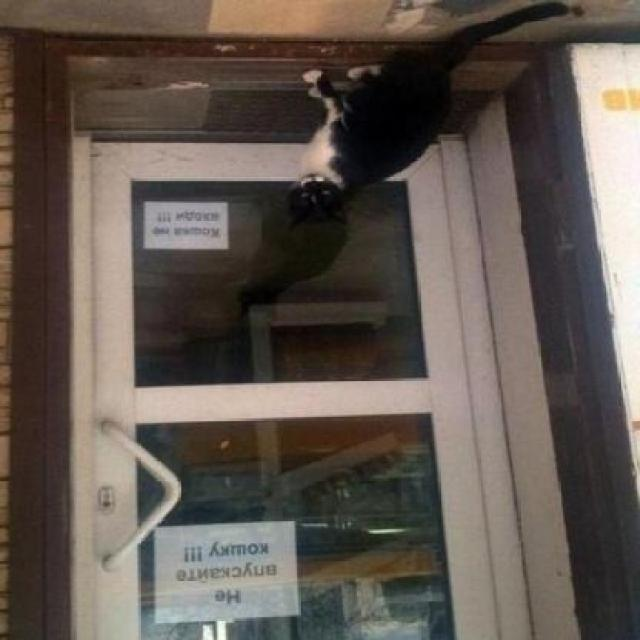cat: (270, 1, 590, 244)
